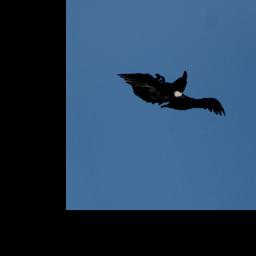Crow: (116, 43, 227, 149)
